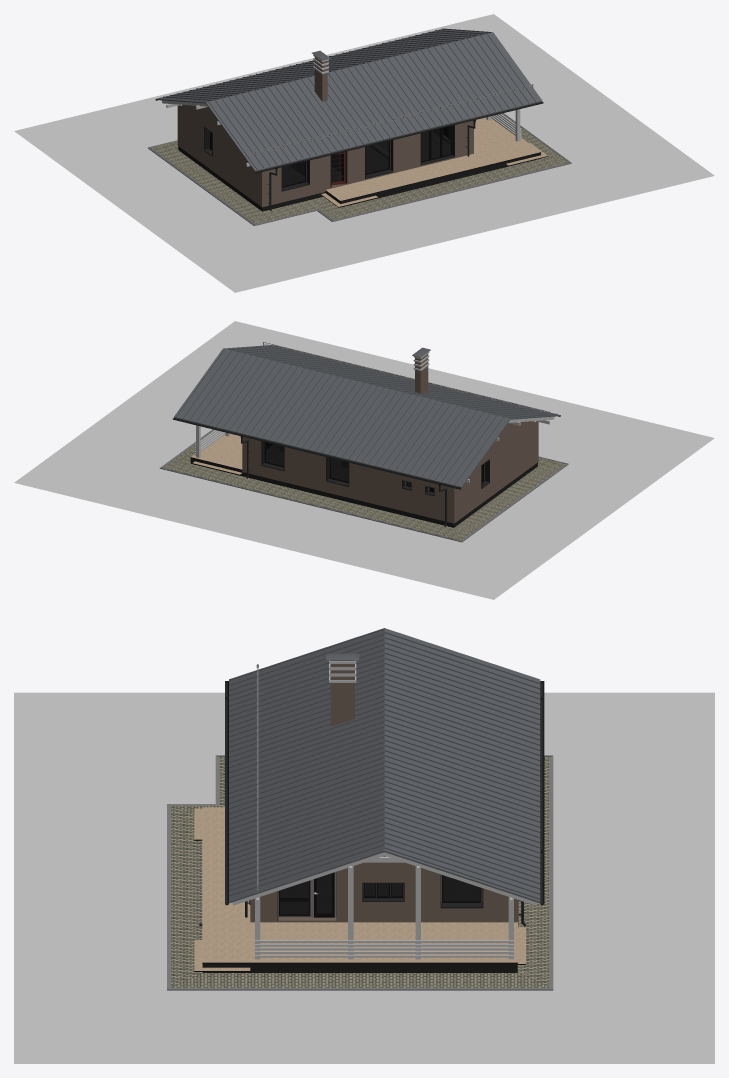
The picture shows the model from 3 angles, top to bottom: view 1: azimuth 30°, elevation 25°; view 2: azimuth 150°, elevation 25°; view 3: azimuth 270°, elevation 25°; orthographic projection. The views are drawn at different scales.
Parts seen in each view (by area): view 1: 10_Grass, 04_Roof_MetalGrey, 02_Cedral_DarkGrey, 09_RoadStone, object 1, 05_Black_Matte, 11_Glass_Simple, 13_Chrome, 12_Melall_Gray, 06_White_Matte, 16_Window_Wooden; view 2: 10_Grass, 04_Roof_MetalGrey, 02_Cedral_DarkGrey, 09_RoadStone, 05_Black_Matte, 13_Chrome, 12_Melall_Gray, object 1, 06_White_Matte, 11_Glass_Simple; view 3: 10_Grass, 04_Roof_MetalGrey, object 1, 09_RoadStone, 02_Cedral_DarkGrey, 06_White_Matte, 13_Chrome, 05_Black_Matte, 11_Glass_Simple, 12_Melall_Gray, 16_Window_Wooden.
Boxes of the visible parts, x1,y1,x2,y2 form: 10_Grass: (14, 14, 714, 292); 04_Roof_MetalGrey: (156, 28, 542, 171); 02_Cedral_DarkGrey: (177, 57, 473, 207); 09_RoadStone: (151, 113, 567, 223); object 1: (321, 117, 547, 206); 05_Black_Matte: (178, 125, 540, 211); 11_Glass_Simple: (210, 125, 451, 186); 13_Chrome: (147, 84, 571, 225); 12_Melall_Gray: (155, 29, 543, 210); 06_White_Matte: (162, 54, 521, 166); 16_Window_Wooden: (209, 125, 548, 207); 10_Grass: (14, 321, 714, 599); 04_Roof_MetalGrey: (174, 345, 559, 487); 02_Cedral_DarkGrey: (242, 354, 538, 523); 09_RoadStone: (163, 430, 564, 539); 05_Black_Matte: (190, 441, 537, 527); 13_Chrome: (159, 342, 568, 542); 12_Melall_Gray: (172, 345, 560, 527); object 1: (191, 433, 242, 474); 06_White_Matte: (194, 351, 554, 482); 11_Glass_Simple: (265, 442, 483, 491); 10_Grass: (14, 692, 714, 1063); 04_Roof_MetalGrey: (229, 628, 540, 903); object 1: (194, 807, 525, 970); 09_RoadStone: (171, 757, 549, 987); 02_Cedral_DarkGrey: (250, 660, 518, 925); 06_White_Matte: (232, 660, 536, 959); 13_Chrome: (167, 664, 553, 990); 05_Black_Matte: (202, 872, 517, 972); 11_Glass_Simple: (280, 873, 480, 914); 12_Melall_Gray: (199, 681, 544, 926); 16_Window_Wooden: (194, 839, 525, 971).
Size of what is drawn, in the model's own units: 32.56 by 8.24 by 25.98.
